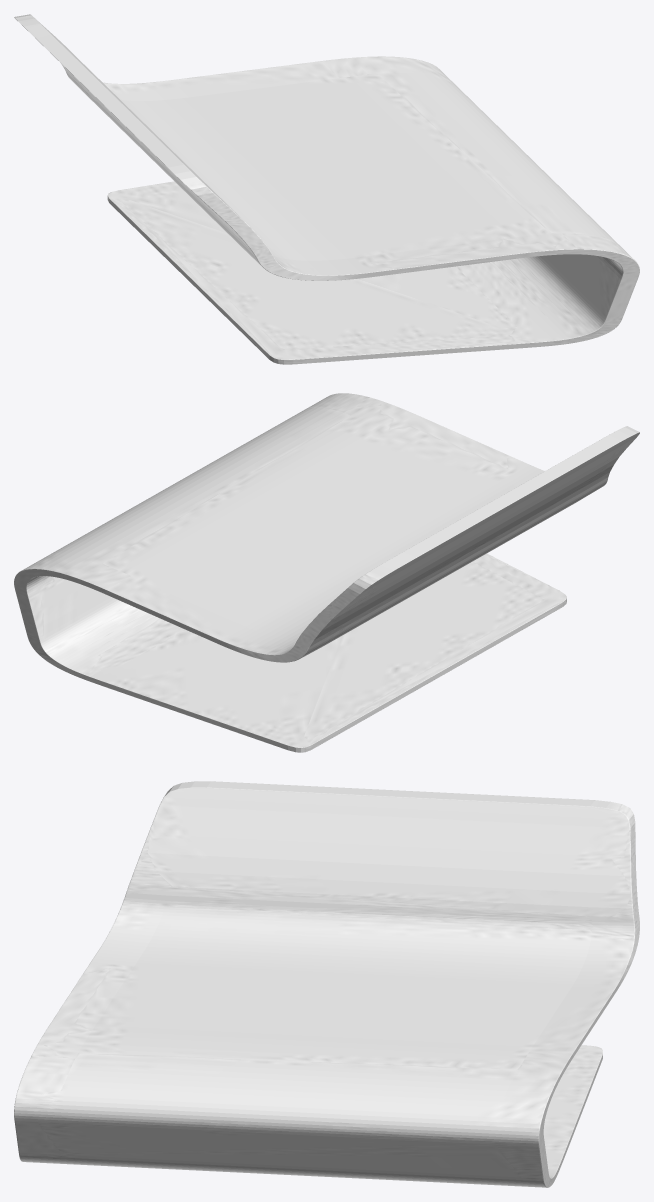
File: chair_12.glb
The picture shows the model from 3 angles, top to bottom: view 1: azimuth 30°, elevation 25°; view 2: azimuth 150°, elevation 25°; view 3: azimuth 270°, elevation 25°; orthographic projection. The views are drawn at different scales.
Parts seen in each view (by area): view 1: chair_12; view 2: chair_12; view 3: chair_12.
Boxes of the visible parts, left/top/right/bottom form: chair_12: left=14, top=14, right=639, bottom=364; chair_12: left=14, top=393, right=639, bottom=752; chair_12: left=14, top=781, right=639, bottom=1187.
Bounding box in the file's own units: 1.07 × 0.4643 × 1.26.
1 material, 1 textured.
